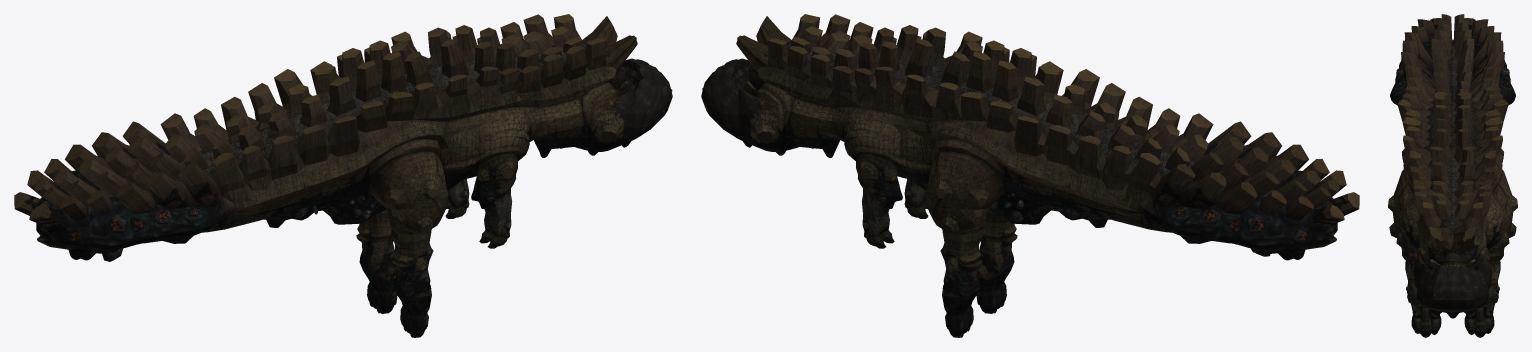
Rendered from Uragaan.glb.
3 views of the same model, side by side, from view 1: azimuth 30°, elevation 25°; view 2: azimuth 150°, elevation 25°; view 3: azimuth 270°, elevation 25° (orthographic). The views are drawn at different scales.
Parts seen in each view (by area): view 1: m009_BM_02_Mesh, m009_BM_01_Mesh.001, m009_BM_02.007_Mesh.017, m009_BM_02.002_Mesh.003, m009_BM_02.005_Mesh.014, m009_BM_03.006_Mesh.018, m009_BM_01.001_Mesh.006; view 2: m009_BM_02_Mesh, m009_BM_01_Mesh.001, m009_BM_02.007_Mesh.017, m009_BM_02.002_Mesh.003, m009_BM_02.005_Mesh.014, m009_BM_03.006_Mesh.018, m009_BM_01.001_Mesh.006, m009_BM_03.003_Mesh.010; view 3: m009_BM_02_Mesh, m009_BM_01_Mesh.001, m009_BM_02.007_Mesh.017, m009_BM_01.001_Mesh.006, m009_BM_02.002_Mesh.003, m009_BM_02.005_Mesh.014, m009_BM_03.006_Mesh.018.
Part boxes in pixels (x1,y1,x2,y2): m009_BM_02_Mesh: [105, 14, 616, 243]; m009_BM_01_Mesh.001: [356, 16, 664, 337]; m009_BM_02.007_Mesh.017: [36, 155, 173, 260]; m009_BM_02.002_Mesh.003: [92, 97, 299, 208]; m009_BM_02.005_Mesh.014: [14, 144, 94, 227]; m009_BM_03.006_Mesh.018: [66, 209, 171, 261]; m009_BM_01.001_Mesh.006: [638, 63, 672, 128]; m009_BM_02_Mesh: [757, 14, 1275, 243]; m009_BM_01_Mesh.001: [709, 16, 1017, 337]; m009_BM_02.007_Mesh.017: [1200, 144, 1337, 260]; m009_BM_02.002_Mesh.003: [1076, 97, 1281, 210]; m009_BM_02.005_Mesh.014: [1218, 170, 1359, 227]; m009_BM_03.006_Mesh.018: [1202, 209, 1307, 256]; m009_BM_01.001_Mesh.006: [701, 58, 751, 128]; m009_BM_03.003_Mesh.010: [986, 193, 1185, 221]; m009_BM_02_Mesh: [1388, 38, 1517, 247]; m009_BM_01_Mesh.001: [1396, 154, 1509, 337]; m009_BM_02.007_Mesh.017: [1395, 21, 1510, 82]; m009_BM_01.001_Mesh.006: [1419, 263, 1491, 312]; m009_BM_02.002_Mesh.003: [1402, 40, 1503, 106]; m009_BM_02.005_Mesh.014: [1417, 14, 1501, 46]; m009_BM_03.006_Mesh.018: [1396, 59, 1509, 76].
Size of the model in its own units: 20.89 by 8.66 by 4.49.
Materials: 3 (3 with a texture image).
